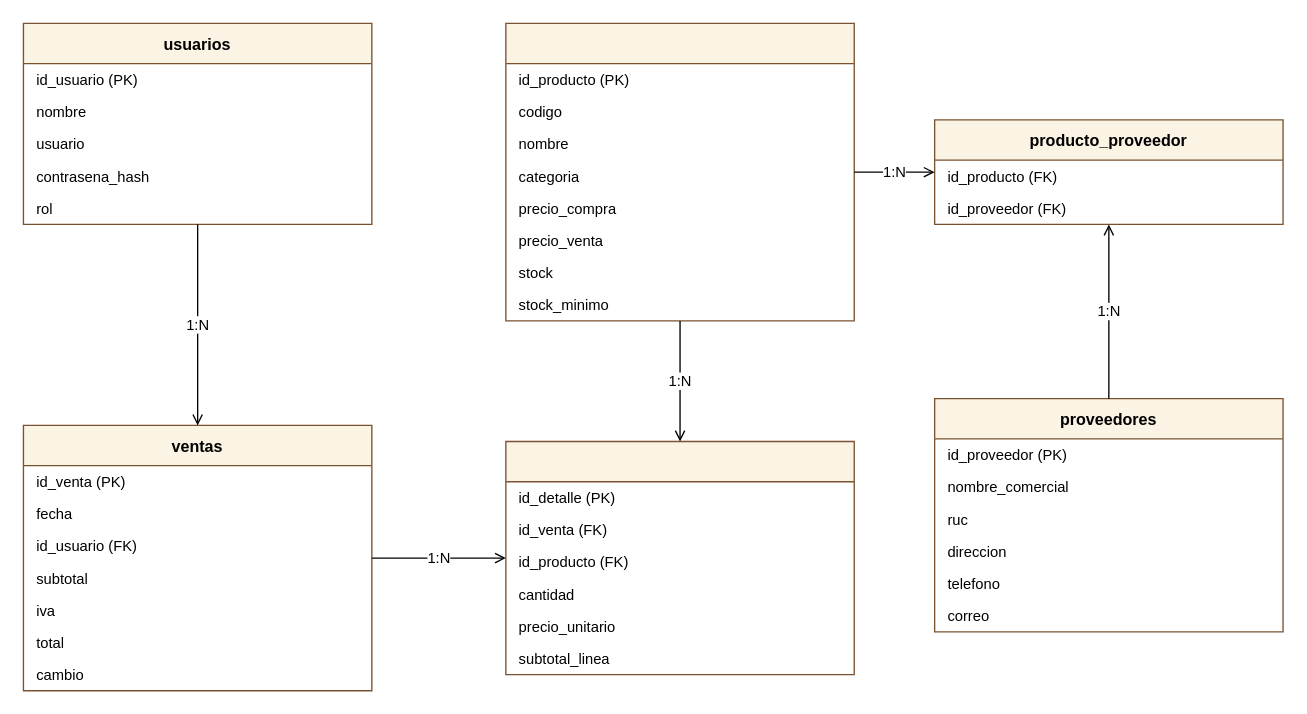
The diagram is 1307 pixels wide and 714 high, and some of its shapes have lost their labels. Here are the shapes that lost their labels. From the top down, the box of each, then its label:
(505, 22, 854, 321): productos
(505, 440, 854, 675): detalle_ventas
